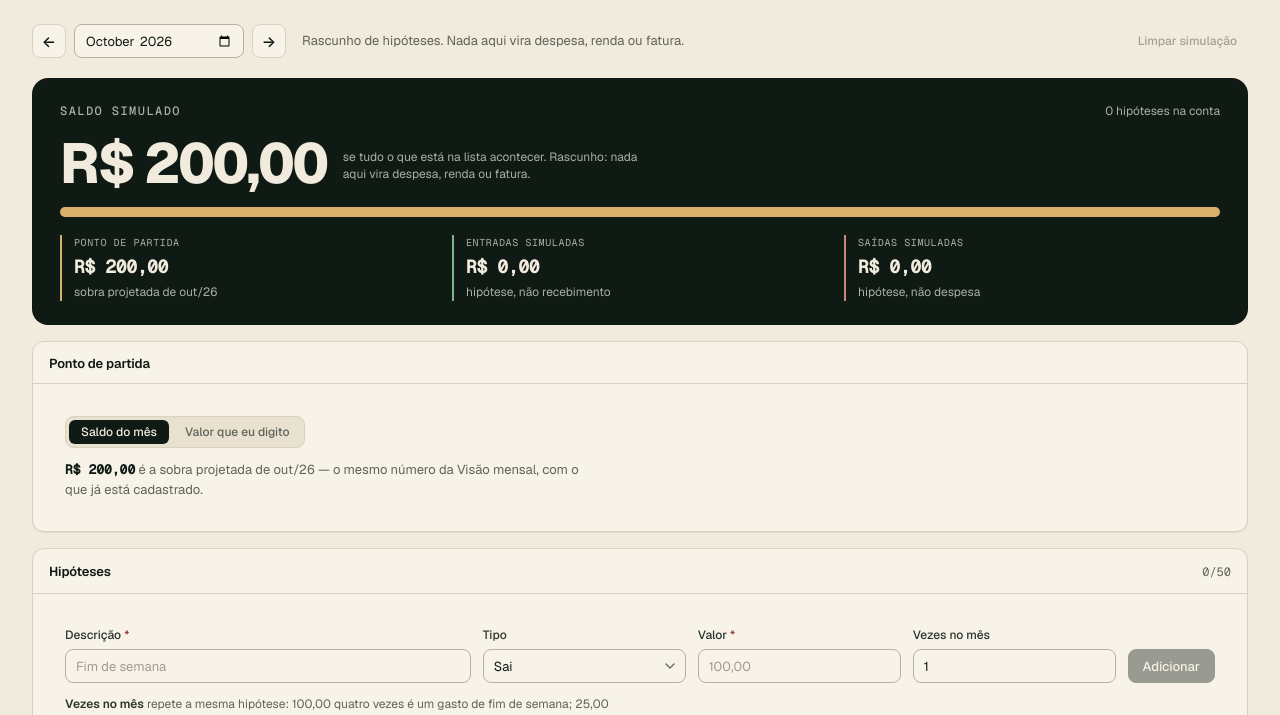
Test case: SimulacaoPage › saldo simulado fica negativo quando as hipóteses passam da base
Expected: the heading "Hipóteses" is shown, [49,564,111,580]
Type "Notebook" into the field named "Descrição*" at [268, 666], box [65,649,471,683]
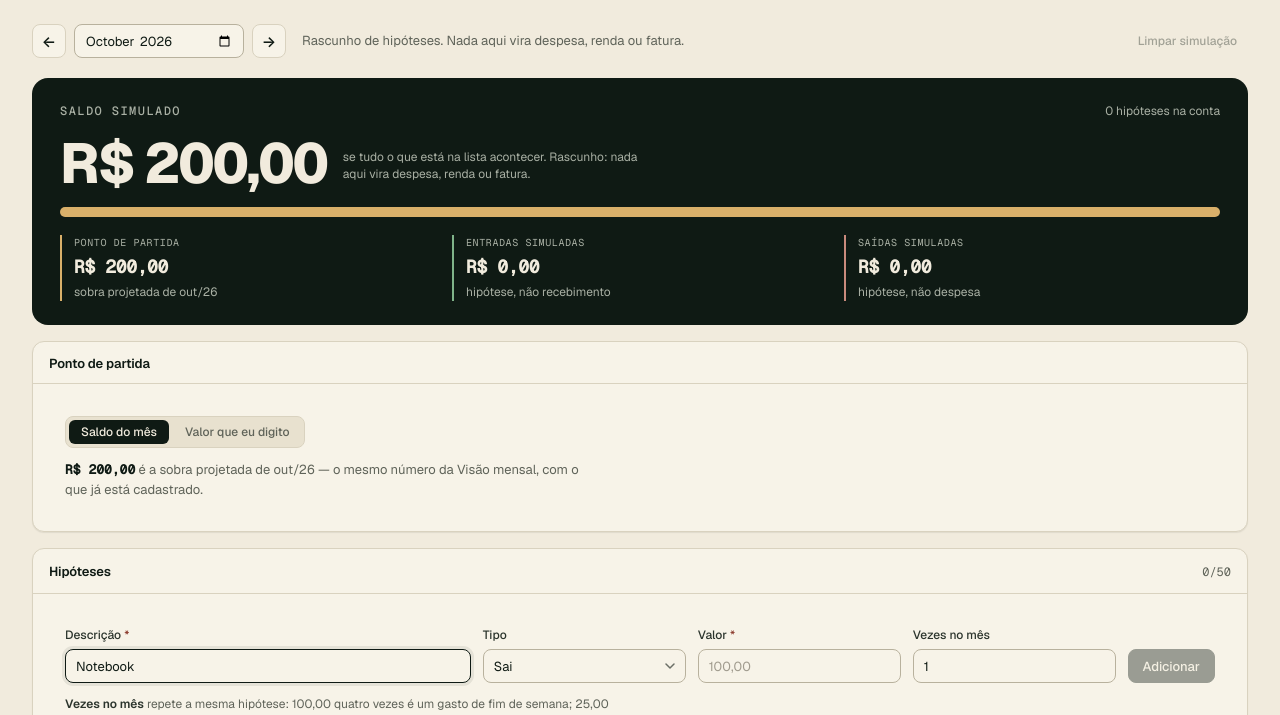
Type "500,00" into the field named "Valor*" at [799, 666], box [698,649,901,683]
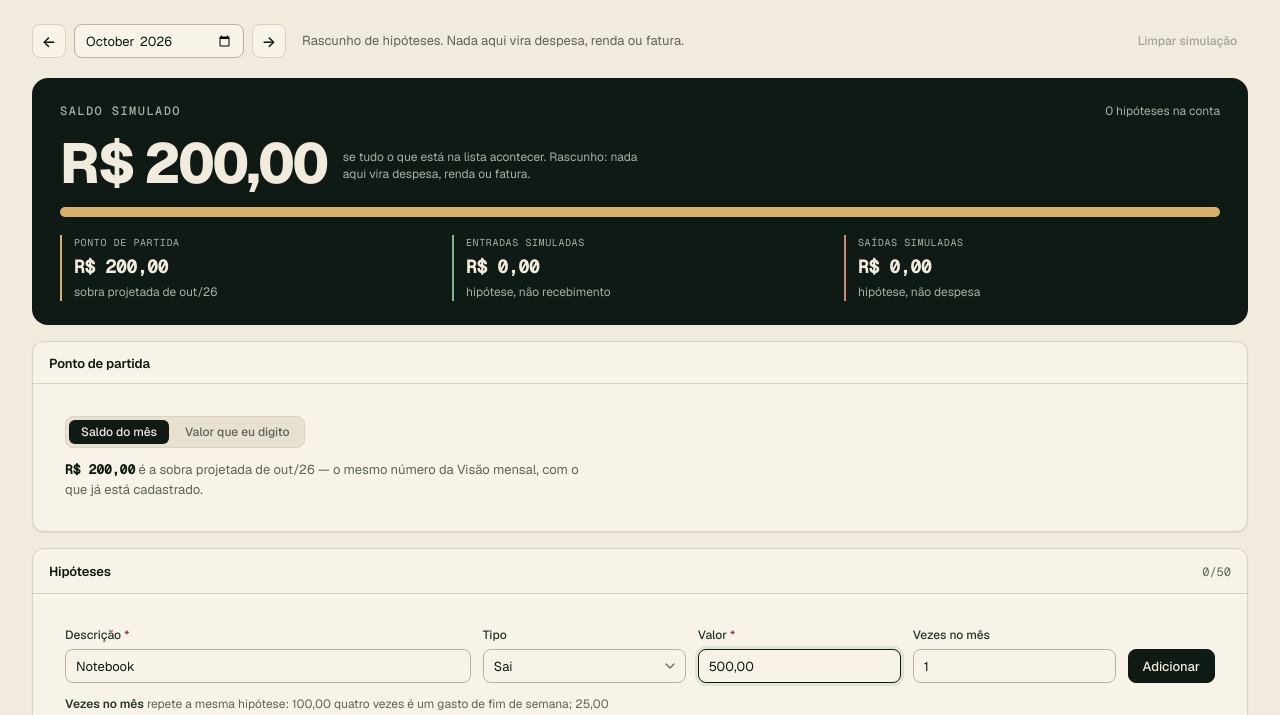
Click the button "Adicionar" at [1171, 666], box [1128,649,1215,683]
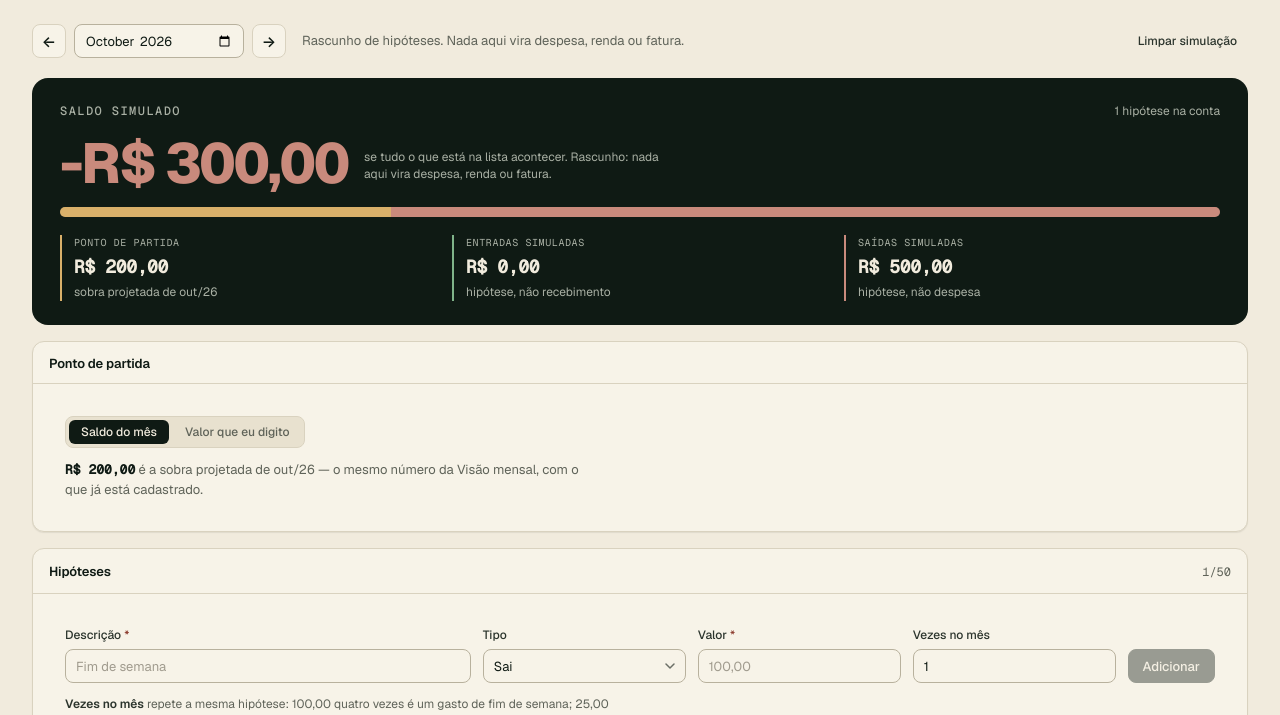
Result: the text "-R$ 300,00" is shown at [60,138,348,189]
